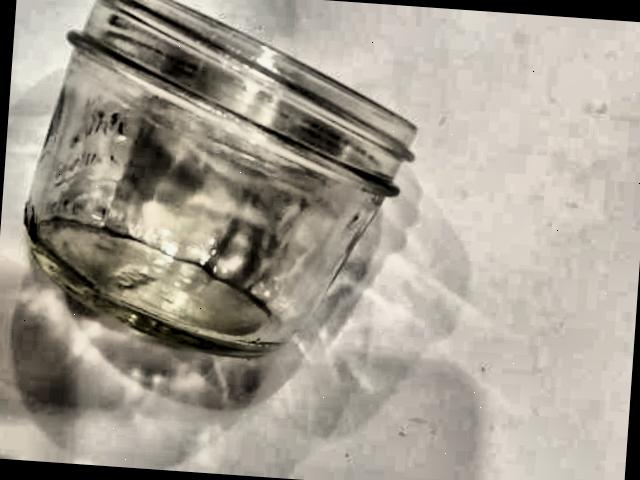Almennt: (0, 0, 435, 383)
